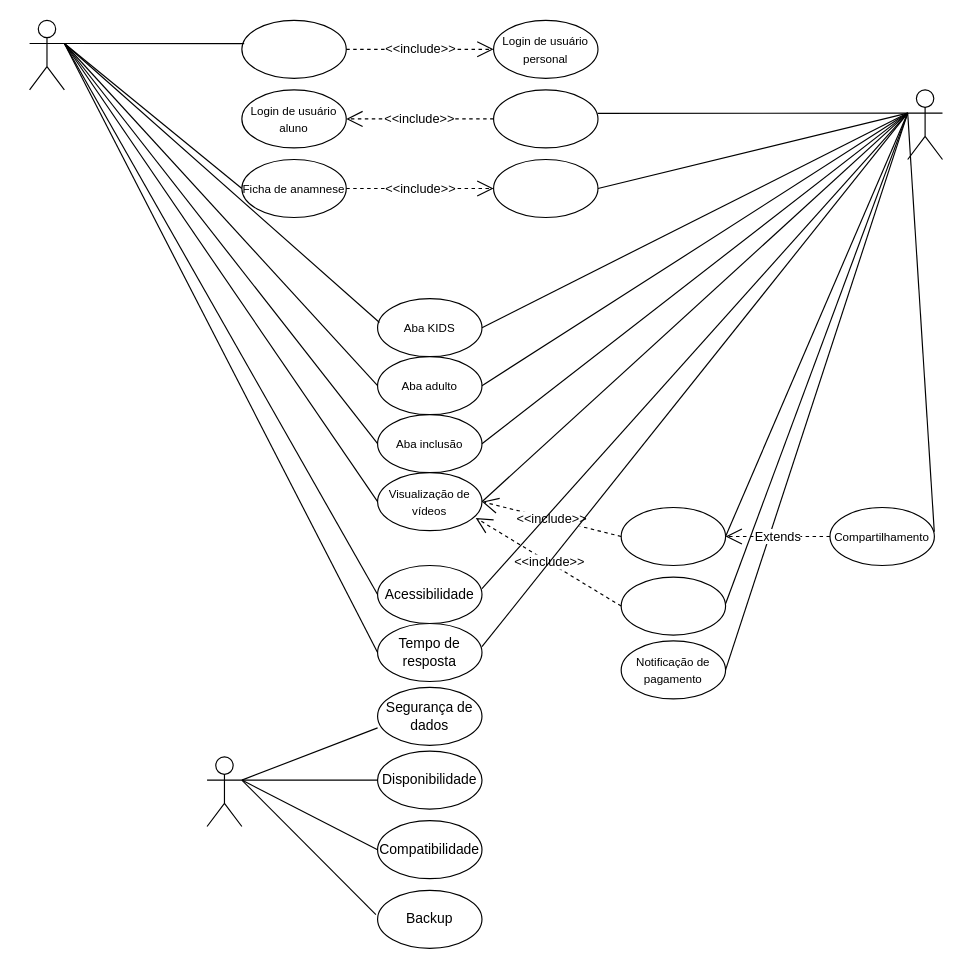
Some shapes in this 963 by 969 pixel diagram are drawn without their labels. Each missing label, with the box of its shape:
Aluno: (907, 89, 942, 160)
Cadastro de usuário aluno: (492, 89, 598, 148)
Cadastro de usuário personal: (241, 19, 346, 78)
Feedback: (620, 506, 726, 566)
Notificação: (620, 576, 726, 635)
Personal: (28, 19, 64, 90)
Sistema: (206, 756, 242, 826)
Visualização da ficha: (492, 158, 598, 217)
